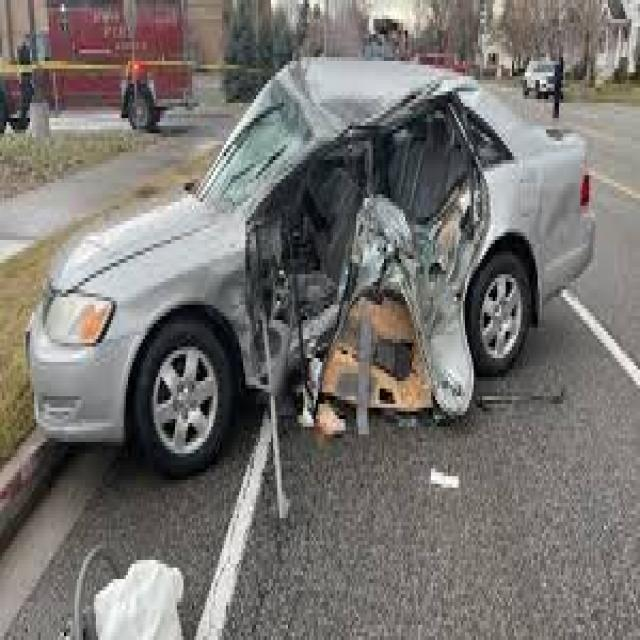accident: (59, 82, 609, 471)
